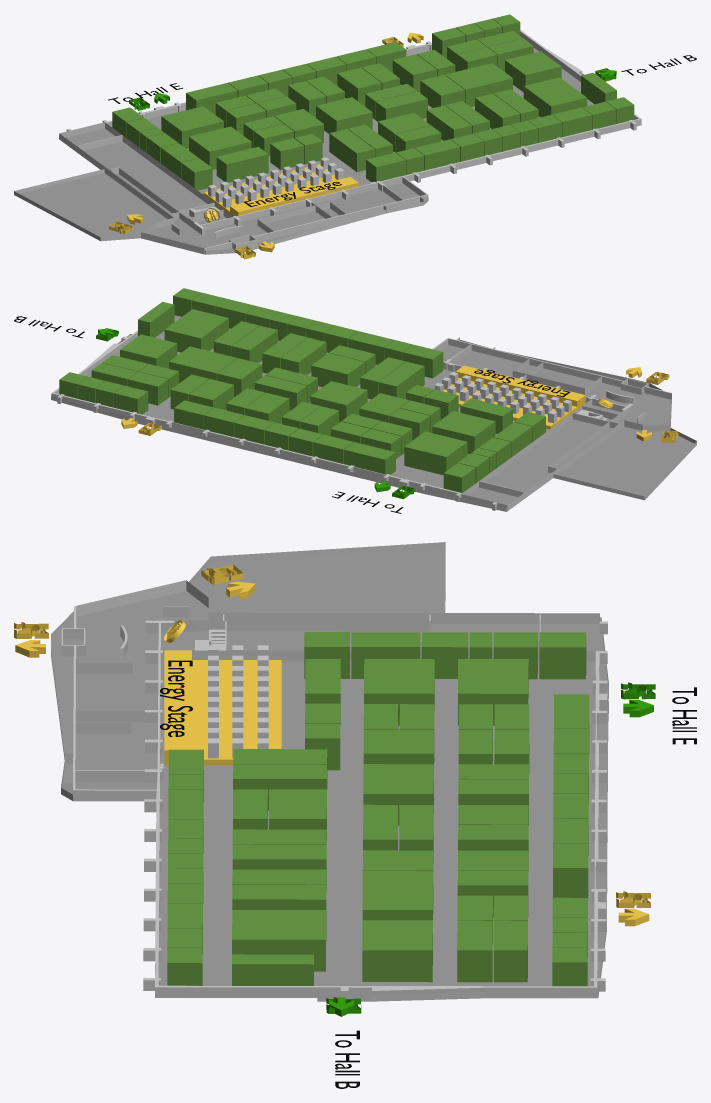
The model's file is Hall_C.glb.
3 views of the same model, one above another, from view 1: azimuth 30°, elevation 25°; view 2: azimuth 150°, elevation 25°; view 3: azimuth 270°, elevation 25° (orthographic). The views are drawn at different scales.
Parts seen in each view (by area): view 1: Plane, Building_curve_, Cube.002, Background, Energy_Stage.001, BOOTHLAYER_curve_.C-3430, BOOTHLAYER_curve_.C-3250, BOOTHLAYER_curve_.C-3210, BOOTHLAYER_curve_.C-3100, BOOTHLAYER_curve_.C-3230, BOOTHLAYER_curve_.C-3260, BOOTHLAYER_curve_.C-3300 (+54 smaller); view 2: Plane, Building_curve_, Background, Cube.002, Energy_Stage.001, BOOTHLAYER_curve_.C-3100, BOOTHLAYER_curve_.C-3430, BOOTHLAYER_curve_.C-3210, BOOTHLAYER_curve_.C-3250, BOOTHLAYER_curve_.C-3230, BOOTHLAYER_curve_.C-3370, BOOTHLAYER_curve_.C-3260 (+57 smaller); view 3: Plane, Building_curve_, Energy_Stage.001, Background, BOOTHLAYER_curve_.C-3430, BOOTHLAYER_curve_.C-3260, Cube.002, BOOTHLAYER_curve_.C-3250, BOOTHLAYER_curve_.C-3100, BOOTHLAYER_curve_.C-3210, BOOTHLAYER_curve_.C-3230, BOOTHLAYER_curve_.C-3440 (+49 smaller).
Boxes of the visible parts, x1,y1,x2,y2 form: Plane: (19, 48, 593, 249); Building_curve_: (59, 30, 641, 254); Cube.002: (208, 157, 343, 207); Background: (14, 44, 641, 254); Energy_Stage.001: (203, 164, 358, 216); BOOTHLAYER_curve_.C-3430: (523, 77, 587, 117); BOOTHLAYER_curve_.C-3250: (445, 63, 512, 106); BOOTHLAYER_curve_.C-3210: (189, 126, 251, 169); BOOTHLAYER_curve_.C-3100: (161, 106, 223, 148); BOOTHLAYER_curve_.C-3230: (316, 97, 372, 133); BOOTHLAYER_curve_.C-3260: (505, 51, 561, 92); BOOTHLAYER_curve_.C-3300: (216, 146, 268, 182); Plane: (86, 315, 693, 504); Building_curve_: (51, 330, 671, 511); Background: (51, 334, 696, 511); Cube.002: (434, 372, 571, 423); Energy_Stage.001: (443, 365, 585, 429); BOOTHLAYER_curve_.C-3100: (404, 431, 467, 475); BOOTHLAYER_curve_.C-3430: (164, 309, 228, 352); BOOTHLAYER_curve_.C-3210: (432, 411, 495, 454); BOOTHLAYER_curve_.C-3250: (169, 346, 237, 383); BOOTHLAYER_curve_.C-3230: (310, 381, 367, 422); BOOTHLAYER_curve_.C-3370: (311, 353, 364, 387); BOOTHLAYER_curve_.C-3260: (120, 334, 177, 368); Plane: (51, 548, 608, 991); Building_curve_: (61, 580, 607, 998); Energy_Stage.001: (164, 650, 281, 765); Background: (51, 542, 608, 1001); BOOTHLAYER_curve_.C-3430: (232, 910, 326, 971); BOOTHLAYER_curve_.C-3260: (362, 920, 432, 982); Cube.002: (208, 645, 268, 758); BOOTHLAYER_curve_.C-3250: (362, 870, 433, 920); BOOTHLAYER_curve_.C-3100: (458, 659, 528, 725); BOOTHLAYER_curve_.C-3210: (364, 659, 434, 725); BOOTHLAYER_curve_.C-3230: (363, 764, 433, 825); BOOTHLAYER_curve_.C-3440: (232, 954, 313, 985).
Size of the model in its own units: 50.28 by 1.39 by 26.87.
